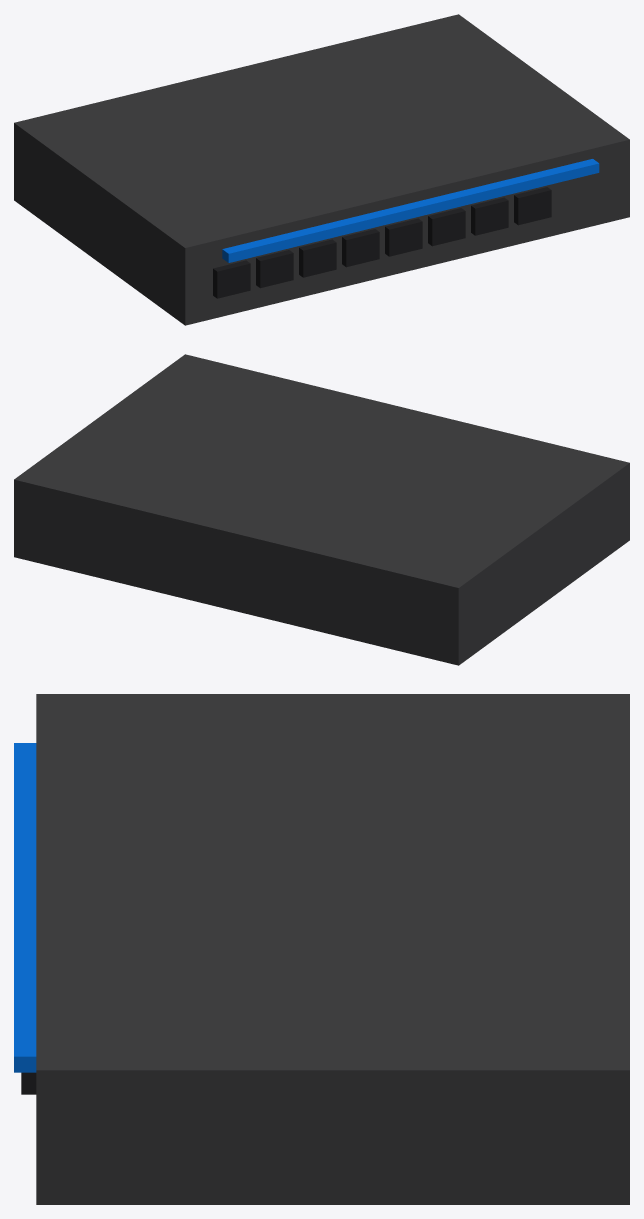
The model's file is switch.glb.
The picture shows the model from 3 angles, top to bottom: view 1: azimuth 30°, elevation 25°; view 2: azimuth 150°, elevation 25°; view 3: azimuth 270°, elevation 25°; orthographic projection. The views are drawn at different scales.
Visible parts, largest first — view 1: body, leds, port_0, port_1, port_3, port_4, port_5, port_6, port_7, port_2; view 2: body; view 3: body, leds.
Boxes of the visible parts, <box> form: body: <box>14,14,629,325</box>; leds: <box>222,159,599,262</box>; port_0: <box>213,260,250,298</box>; port_1: <box>256,250,293,288</box>; port_3: <box>342,229,379,267</box>; port_4: <box>385,218,422,256</box>; port_5: <box>428,208,465,246</box>; port_6: <box>471,197,508,235</box>; port_7: <box>514,187,551,225</box>; port_2: <box>299,239,336,277</box>; body: <box>14,354,629,665</box>; body: <box>36,694,629,1204</box>; leds: <box>14,743,36,1072</box>.
Size of the model in its own units: 0.6 by 0.1 by 0.415.
